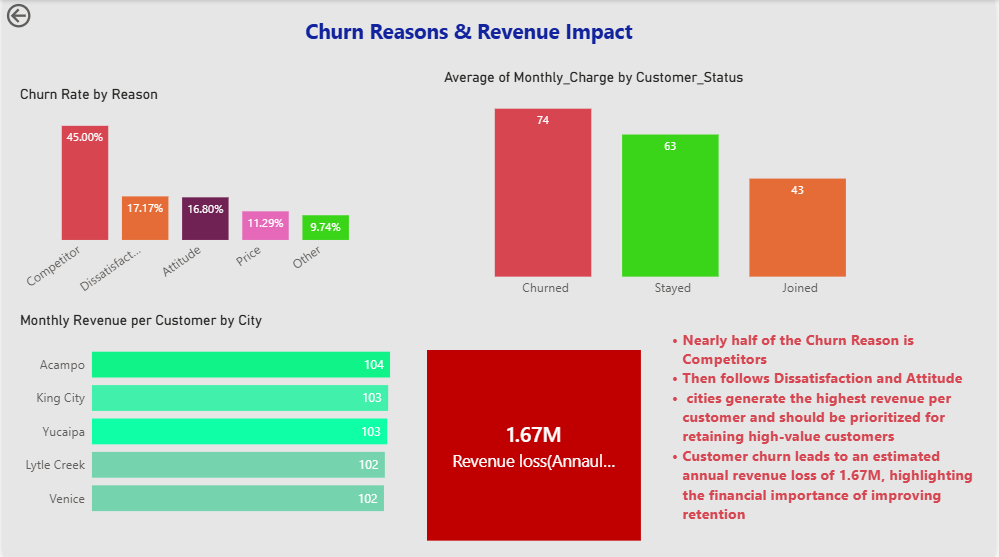

This screenshot's page, from the dashboard's own definition file:
{"tool":"powerbi","page":{"name":"Churn Reasons & Revenue Impact","canvas":[1280,720],"ordinal":4},"visuals":[{"type":"columnChart","title":"Churn Rate  by Reason","fields":{"Category":["telecom_db telecome_churn.Churn_Category"],"Y":["telecom_db telecome_churn.Churn Share by Category"]},"box":[16.3,111.4,467.7,280.6],"z":0},{"type":"clusteredColumnChart","fields":{"Category":["telecom_db telecome_churn.Customer_Status"],"Y":["Avg(telecom_db telecome_churn.Monthly_Charge)"]},"box":[564.3,89.1,601.4,302.9],"z":1000},{"type":"barChart","fields":{"Y":["telecom_db telecome_churn.Monthly Revenue per Customer"],"Category":["telecom_db telecome_churn.City"]},"box":[16.6,402.1,547.8,280.3],"z":2000},{"type":"cardVisual","fields":{"Data":["telecom_db telecome_churn.Revenue loss(Annauly)"]},"box":[547.1,451.6,276.1,246.5],"z":3000},{"type":"textbox","box":[380,17.3,443.5,52],"z":4000},{"type":"textbox","box":[843.9,402.6,414.2,295.5],"z":5000},{"type":"actionButton","box":[0,0,50.6,40.5],"z":6000}]}

Visuals, with their boxes in screenshot pixels (x1, y1, x2, y2), scaled from the page's 1280x720 canvas onto the 999x557 screenshot:
"Churn Rate  by Reason" columnChart: (13, 86, 378, 303)
clusteredColumnChart - telecom_db telecome_churn.Customer_Status x Avg(telecom_db telecome_churn.Monthly_Charge): (440, 69, 910, 303)
barChart - telecom_db telecome_churn.Monthly Revenue per Customer x telecom_db telecome_churn.City: (13, 311, 440, 528)
cardVisual - telecom_db telecome_churn.Revenue loss(Annauly): (427, 349, 642, 540)
textbox: (297, 13, 643, 54)
textbox: (659, 311, 982, 540)
actionButton: (0, 0, 39, 31)
